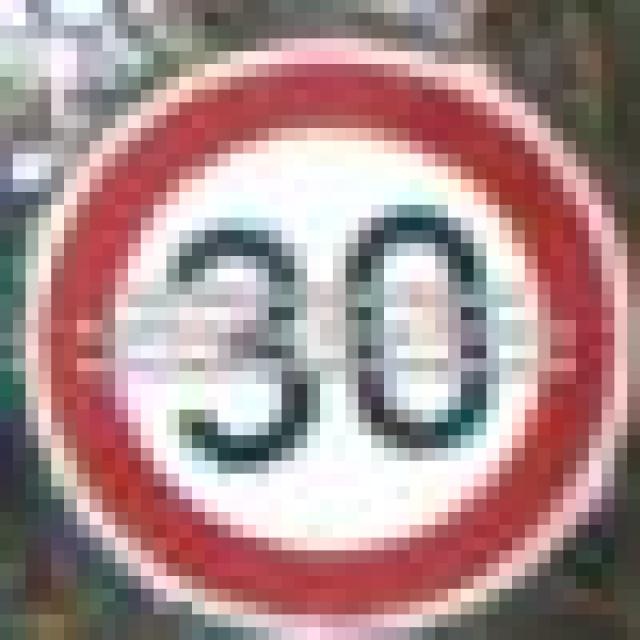SPEED_LIMIT_30: (13, 26, 627, 627)
